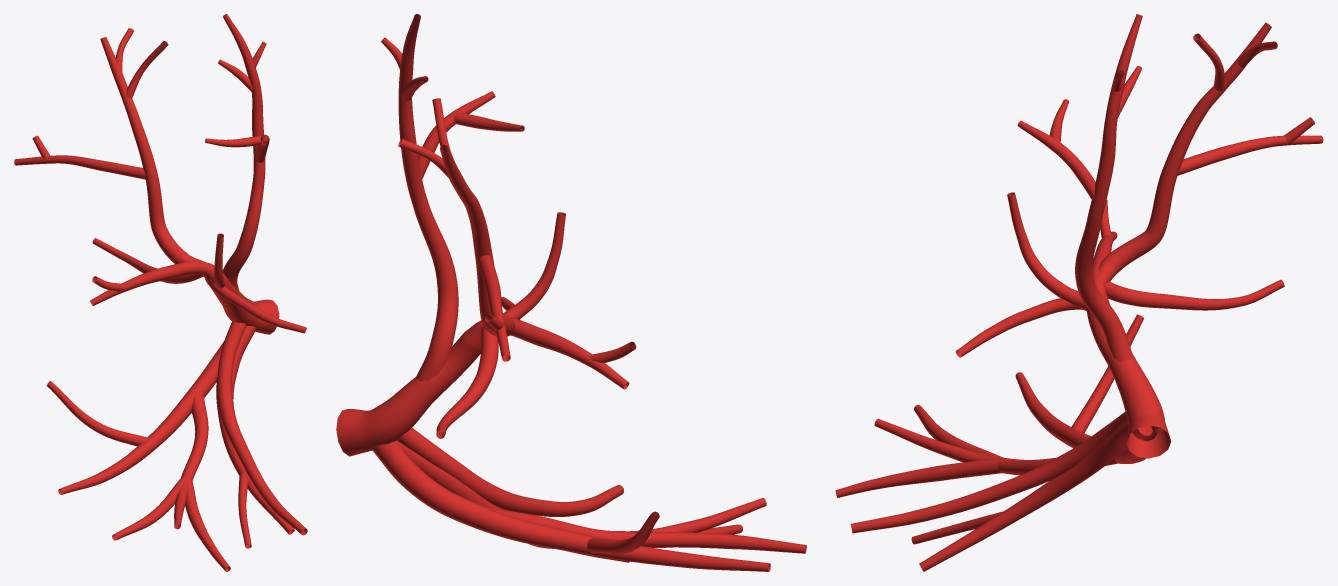
File: circulatorio-right-superior-pulmonary-vein.glb
The picture shows the model from 3 angles, left to right: view 1: azimuth 30°, elevation 25°; view 2: azimuth 150°, elevation 25°; view 3: azimuth 270°, elevation 25°; orthographic projection. The views are drawn at different scales.
Visible parts, largest first — view 1: Posterior vein of right lung, Lateral vein of right lung, Medial vein of right lung, Apical vein of right lung, Anterior vein of right lung, Right superior pulmonary vein; view 2: Lateral vein of right lung, Posterior vein of right lung, Apical vein of right lung, Right superior pulmonary vein, Medial vein of right lung, Anterior vein of right lung; view 3: Posterior vein of right lung, Medial vein of right lung, Lateral vein of right lung, Apical vein of right lung, Right superior pulmonary vein, Anterior vein of right lung.
Part boxes in pixels (<box>): Posterior vein of right lung: <box>14,28,209,305</box>; Lateral vein of right lung: <box>46,341,230,571</box>; Medial vein of right lung: <box>216,322,307,548</box>; Apical vein of right lung: <box>205,14,269,291</box>; Anterior vein of right lung: <box>209,233,306,333</box>; Right superior pulmonary vein: <box>204,263,279,334</box>; Lateral vein of right lung: <box>372,442,806,571</box>; Posterior vein of right lung: <box>398,98,636,438</box>; Apical vein of right lung: <box>381,14,524,381</box>; Right superior pulmonary vein: <box>336,320,483,456</box>; Medial vein of right lung: <box>394,428,629,562</box>; Anterior vein of right lung: <box>501,212,565,319</box>; Posterior vein of right lung: <box>1093,22,1323,310</box>; Medial vein of right lung: <box>850,411,1158,571</box>; Lateral vein of right lung: <box>835,314,1158,497</box>; Apical vein of right lung: <box>1017,14,1142,362</box>; Right superior pulmonary vein: <box>1086,280,1171,458</box>; Anterior vein of right lung: <box>956,192,1086,357</box>.
Bounding box in the file's own units: 0.0939 × 0.1536 × 0.119.
